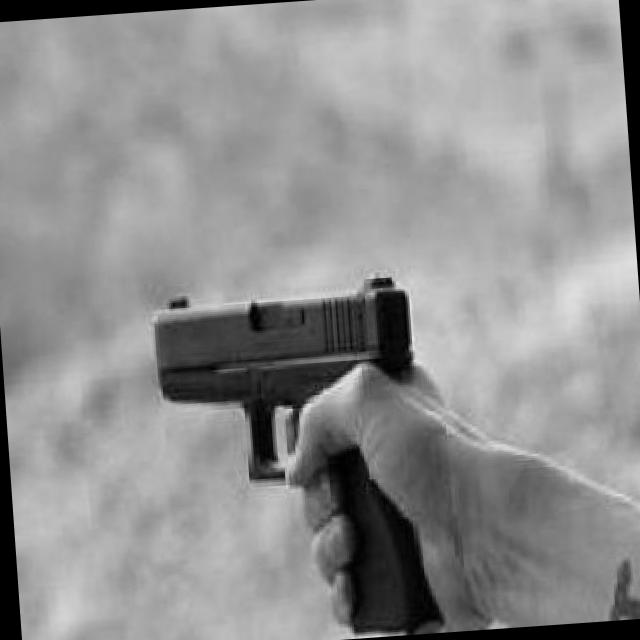Guns: (88, 251, 493, 640)
